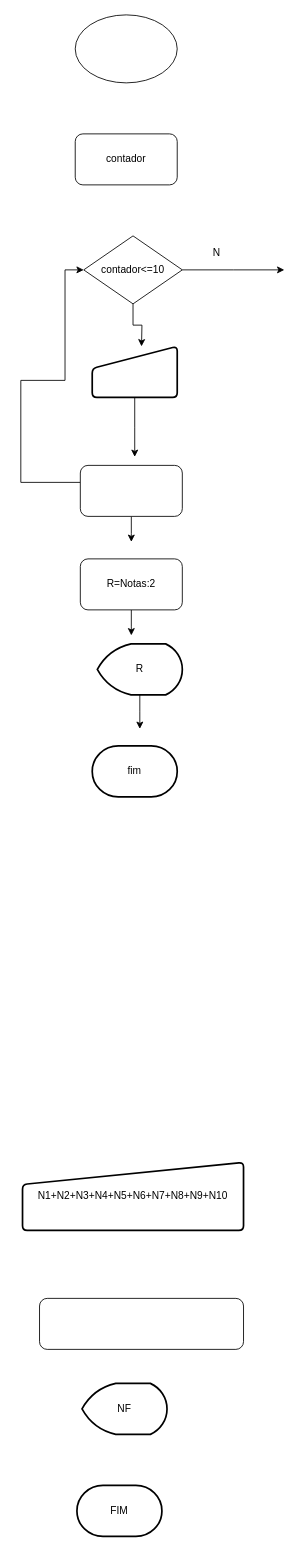
Some shapes in this 306 by 1552 pixel diagram are drawn without their labels. The shapes that lost their labels are listed below. From the top down, each one's centre as x and y in pixels, then its label:
the point at 125,48: inicio
the point at 134,371: nota
the point at 130,490: contador ++
the point at 141,1323: NF=N1+N2+N3+N4+N5+N6+N7+N8+N9+N10 /10
